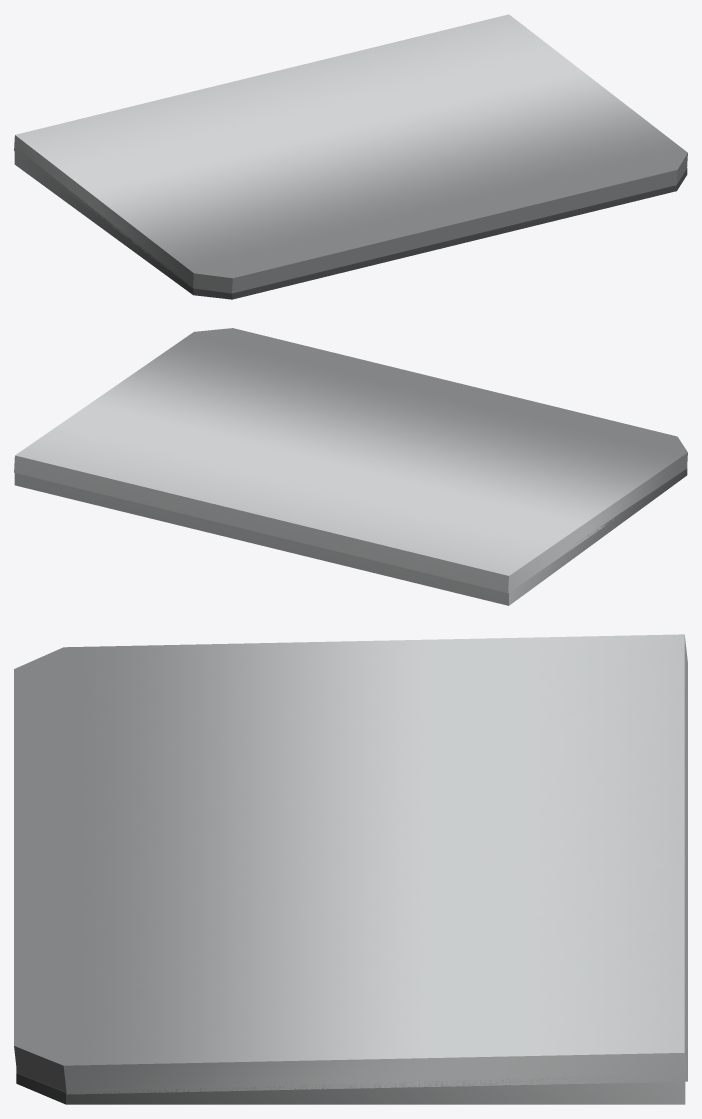
Rendered from Laptop_Closed.fbx.
3 renders of one model, top to bottom at view 1: azimuth 30°, elevation 25°; view 2: azimuth 150°, elevation 25°; view 3: azimuth 270°, elevation 25°, orthographic. The views are drawn at different scales.
Visible parts, largest first — view 1: Laptop_Closed; view 2: Laptop_Closed; view 3: Laptop_Closed.
Boxes of the visible parts, x1=… form: Laptop_Closed: x1=14, y1=14, x2=687, y2=299; Laptop_Closed: x1=14, y1=328, x2=687, y2=605; Laptop_Closed: x1=14, y1=634, x2=687, y2=1104.
Bounding box in the file's own units: 41.29 × 2.38 × 28.1.
